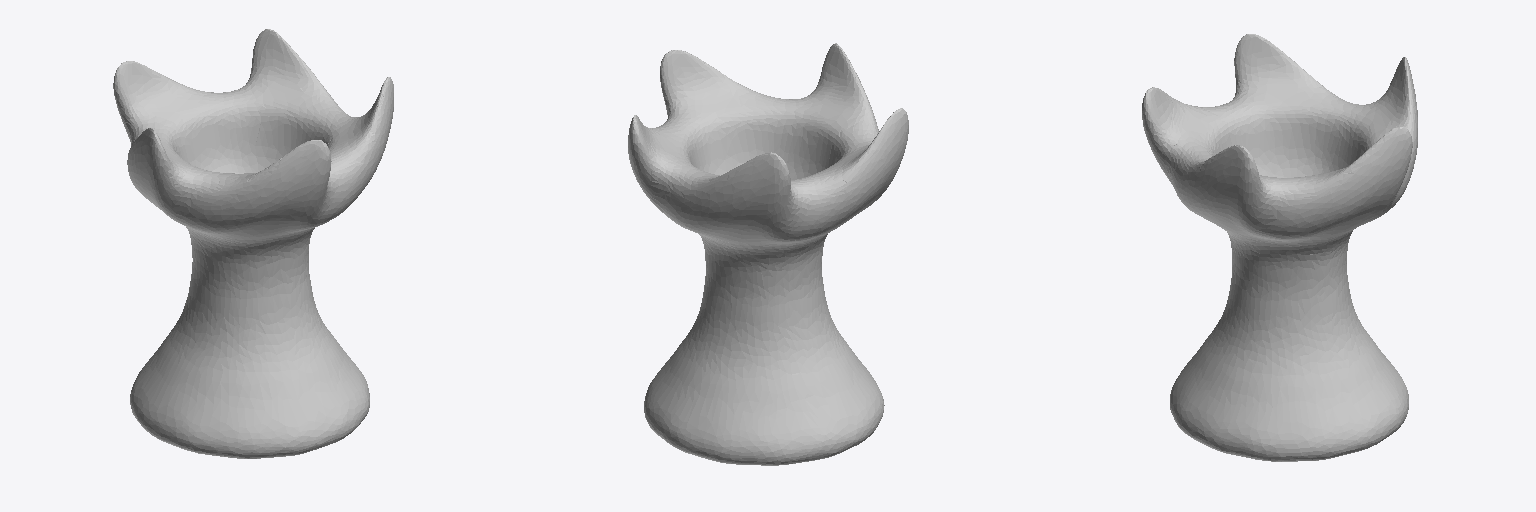
The model's file is eat-simple.obj.
3 views of the same model, side by side, from view 1: azimuth 30°, elevation 25°; view 2: azimuth 150°, elevation 25°; view 3: azimuth 270°, elevation 25° (orthographic).
Parts seen in each view (by area): view 1: Quad_Sphere; view 2: Quad_Sphere; view 3: Quad_Sphere.
Part boxes in pixels (bbox=[...]): Quad_Sphere: bbox=[113, 29, 393, 458]; Quad_Sphere: bbox=[628, 43, 908, 465]; Quad_Sphere: bbox=[1142, 34, 1417, 461].
Size of the model in its own units: 3.7 by 4.78 by 3.63.